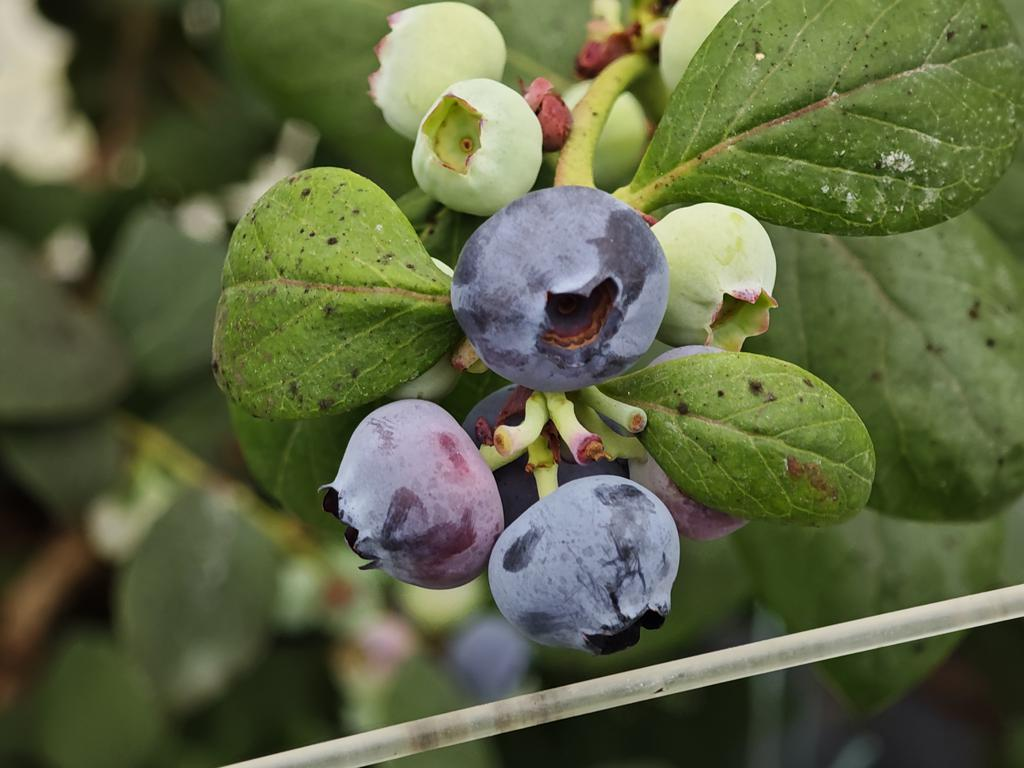RipeBlueBerry: (448, 180, 674, 394), (488, 472, 683, 658)
Semi-RipeBlueBerry: (315, 395, 508, 592)
